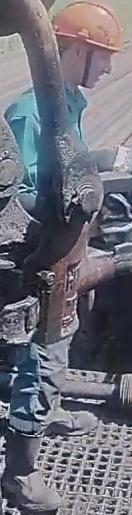gloves: (101, 143, 132, 175)
helmet: (48, 0, 128, 56)
vest: (6, 85, 88, 205)
